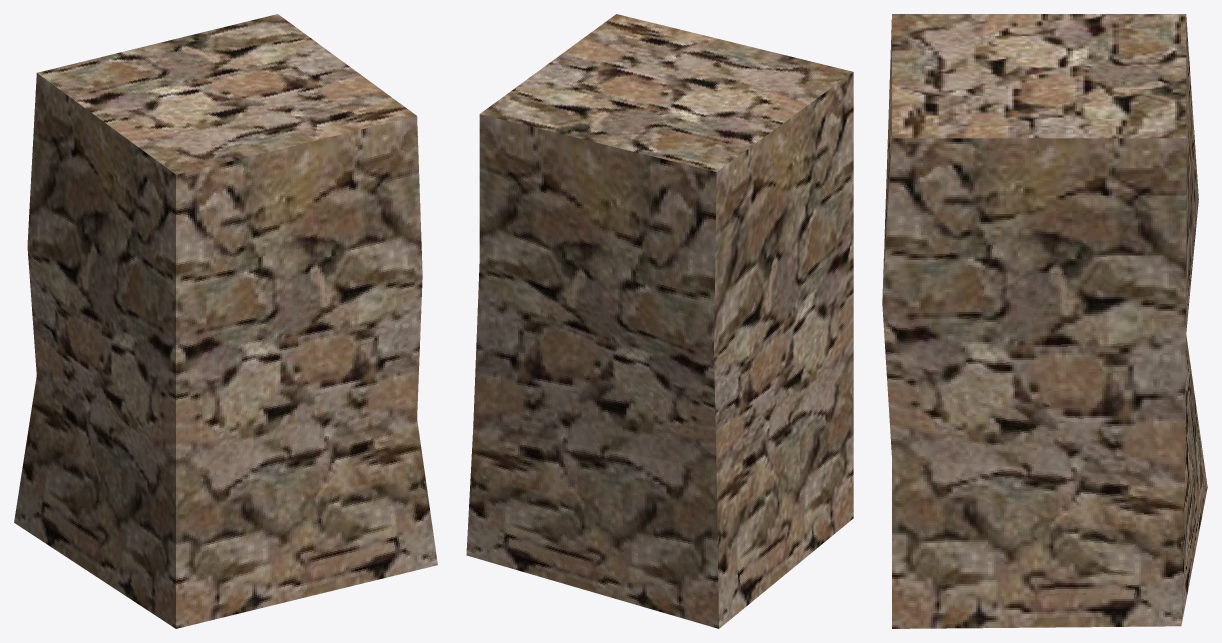
File: lf_drystone_column.glb
3 renders of one model, left to right at view 1: azimuth 30°, elevation 25°; view 2: azimuth 150°, elevation 25°; view 3: azimuth 270°, elevation 25°, orthographic. The views are drawn at different scales.
Parts seen in each view (by area): view 1: drystone_column; view 2: drystone_column; view 3: drystone_column.
Boxes of the visible parts, bbox=[...] form: drystone_column: bbox=[14, 14, 437, 628]; drystone_column: bbox=[466, 14, 853, 628]; drystone_column: bbox=[882, 14, 1207, 628].
Bounding box in the file's own units: 0.5692 × 0.9 × 0.5529.
Materials: 1 (1 with a texture image).
